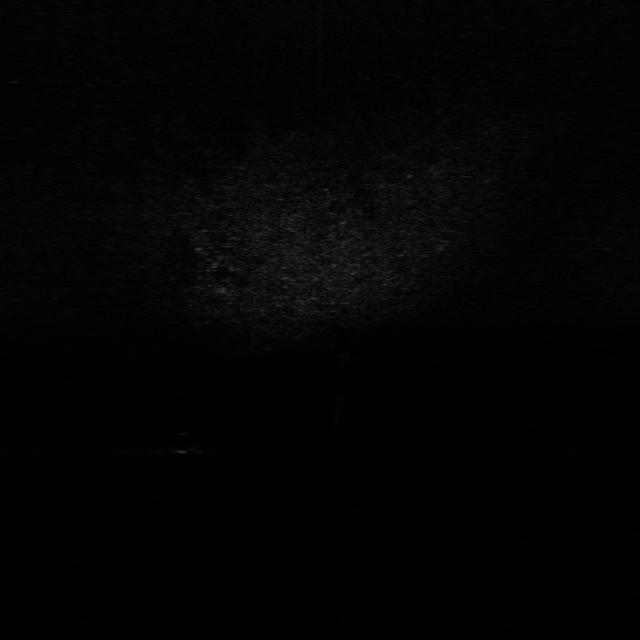ball: (167, 430, 201, 455)
cube: (336, 350, 366, 370)
